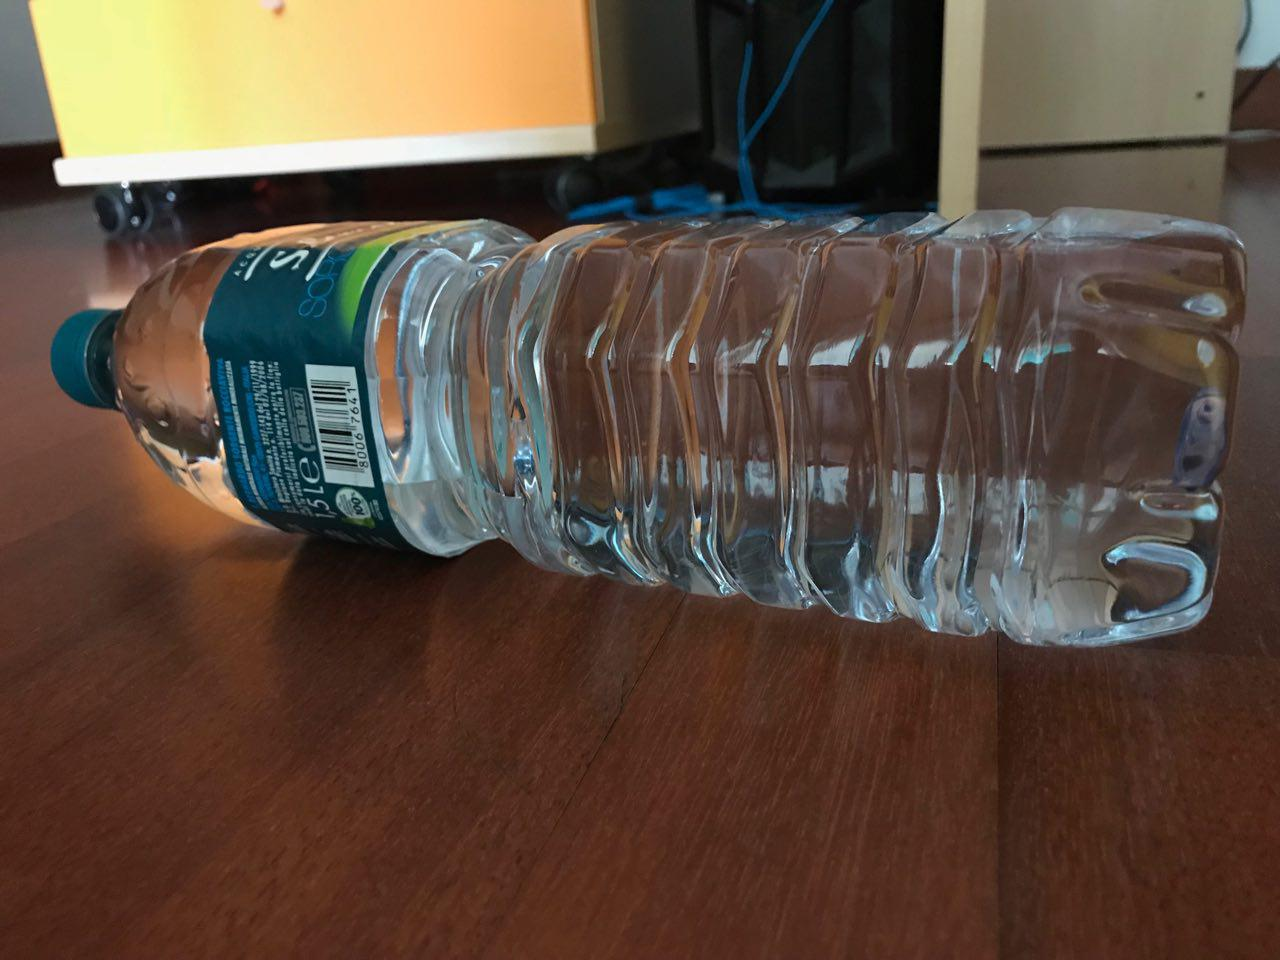san_bernardo: (49, 203, 1250, 652)
